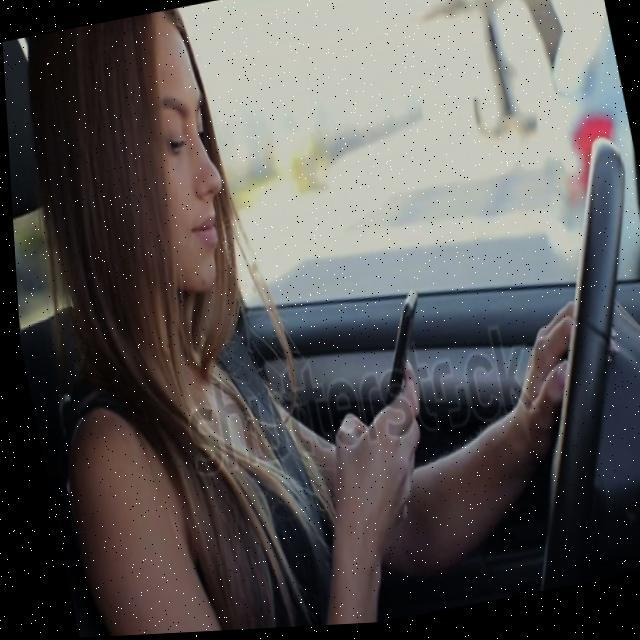PhoneCall: (354, 291, 441, 448)
